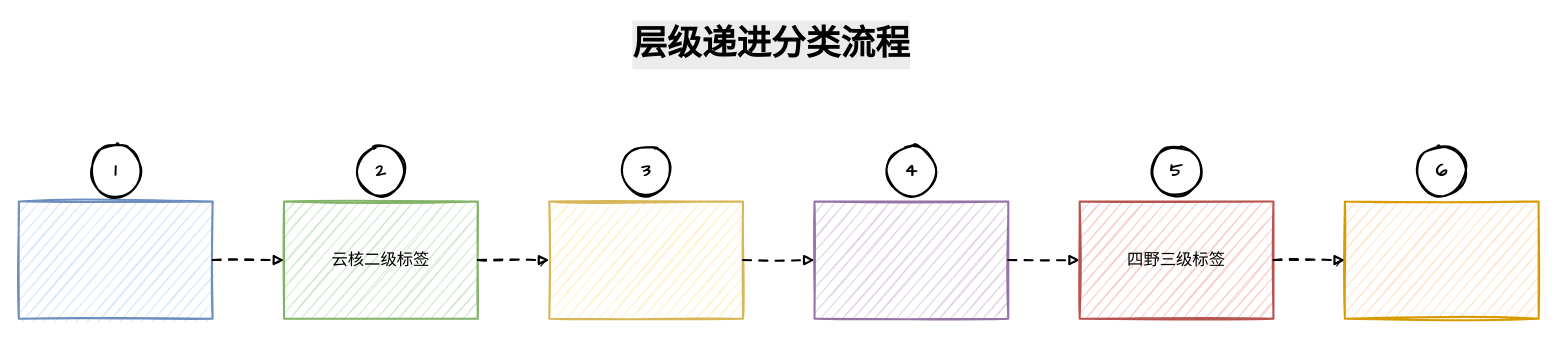
The diagram is 1557 pixels wide and 337 high, and some of its shapes have lost their labels. The shapes that lost their labels are listed below. From the top down, each one's centre as x and y in pixels, then its label:
At point (115, 259): "云核一级标签".
At point (646, 259): "四野一级标签".
At point (911, 259): "四野二级标签".
At point (1441, 259): "黑样本、白样本".
